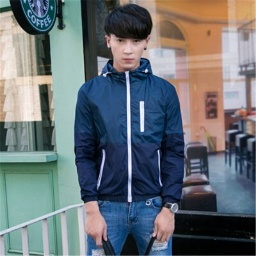face: (104, 2, 153, 69)
